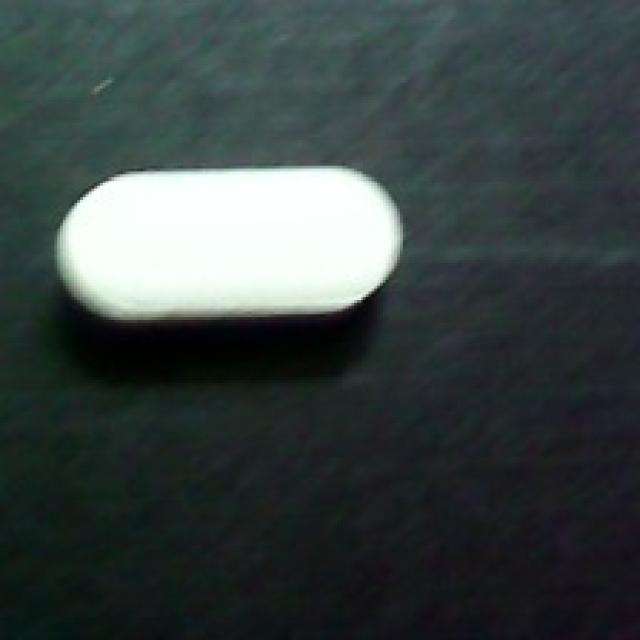no-defect: (51, 157, 414, 349)
